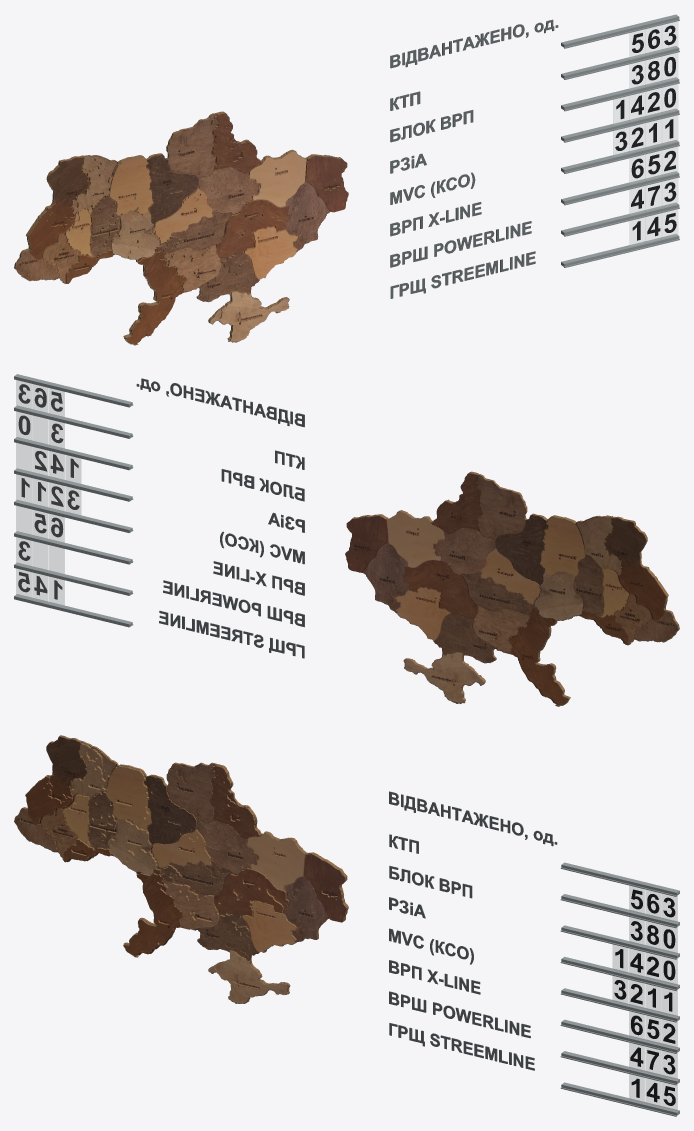
File: edsSignage-5.glb
3 renders of one model, top to bottom at view 1: azimuth 30°, elevation 25°; view 2: azimuth 150°, elevation 25°; view 3: azimuth 330°, elevation 25°, orthographic.
Visible parts, largest first — view 1: eds-ukraine/ukraine-printed-wood-top, eds-ukraine/anodized-aluminum, eds-ukraine/clear-acrylic, eds-ukraine/brushed-metal-letters, eds-ukraine/map-natural-plywood-edge, eds-ukraine/sign-print-black; view 2: eds-ukraine/ukraine-printed-wood-top, eds-ukraine/clear-acrylic, eds-ukraine/brushed-metal-letters, eds-ukraine/anodized-aluminum, eds-ukraine/sign-print-black, eds-ukraine/map-natural-plywood-edge; view 3: eds-ukraine/ukraine-printed-wood-top, eds-ukraine/anodized-aluminum, eds-ukraine/clear-acrylic, eds-ukraine/brushed-metal-letters, eds-ukraine/map-natural-plywood-edge, eds-ukraine/sign-print-black.
Boxes of the visible parts, x1,y1,x2,y2 form: eds-ukraine/ukraine-printed-wood-top: (15, 112, 348, 345); eds-ukraine/anodized-aluminum: (561, 14, 679, 267); eds-ukraine/clear-acrylic: (613, 21, 677, 246); eds-ukraine/brushed-metal-letters: (390, 19, 558, 298); eds-ukraine/map-natural-plywood-edge: (14, 111, 345, 345); eds-ukraine/sign-print-black: (615, 25, 676, 240); eds-ukraine/ukraine-printed-wood-top: (345, 473, 678, 706); eds-ukraine/clear-acrylic: (16, 380, 81, 605); eds-ukraine/brushed-metal-letters: (136, 378, 304, 658); eds-ukraine/anodized-aluminum: (14, 374, 133, 627); eds-ukraine/sign-print-black: (18, 384, 79, 599); eds-ukraine/map-natural-plywood-edge: (347, 471, 679, 706); eds-ukraine/ukraine-printed-wood-top: (14, 736, 346, 1003); eds-ukraine/anodized-aluminum: (560, 862, 679, 1116); eds-ukraine/clear-acrylic: (612, 885, 677, 1111); eds-ukraine/brushed-metal-letters: (389, 791, 557, 1070); eds-ukraine/map-natural-plywood-edge: (15, 735, 348, 1003); eds-ukraine/sign-print-black: (614, 889, 675, 1105).
Bounding box in the file's own units: 3.17 × 1.16 × 0.0315.
6 materials, 1 textured.
